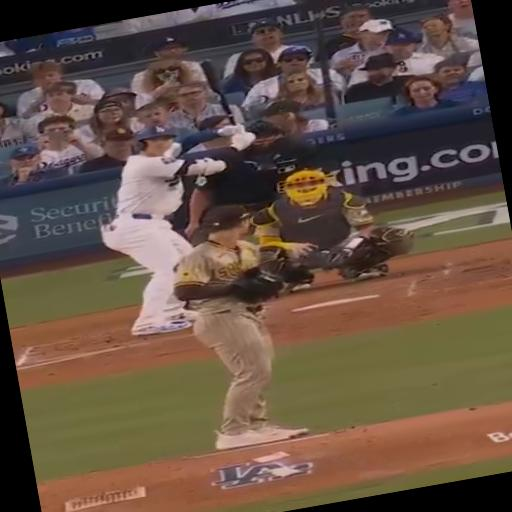bat: (201, 60, 235, 124)
